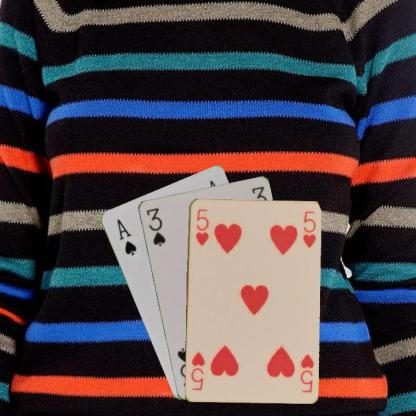3s: (143, 204, 167, 248)
5h: (297, 352, 315, 394), (193, 206, 210, 247)
As: (114, 216, 137, 257)
